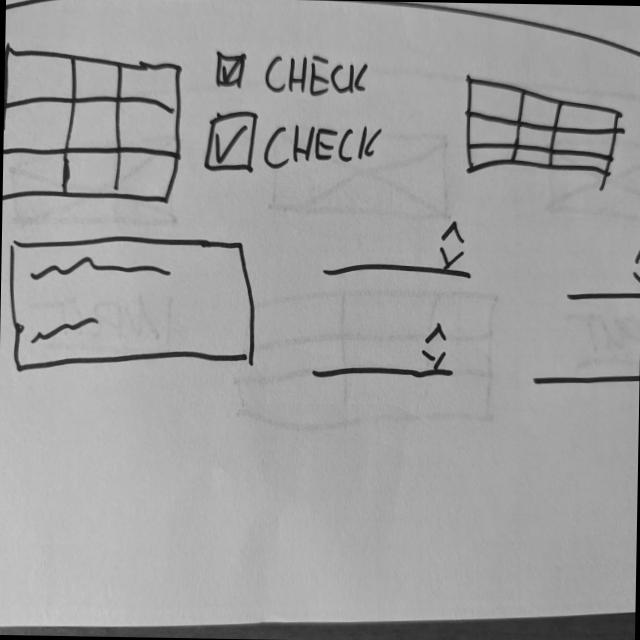checkbox: (201, 108, 385, 178), (213, 48, 373, 104)
number-input: (5, 232, 261, 380), (321, 215, 477, 284), (308, 319, 459, 384), (530, 321, 640, 389), (563, 238, 640, 306)
table: (4, 40, 186, 211), (462, 71, 626, 186)
